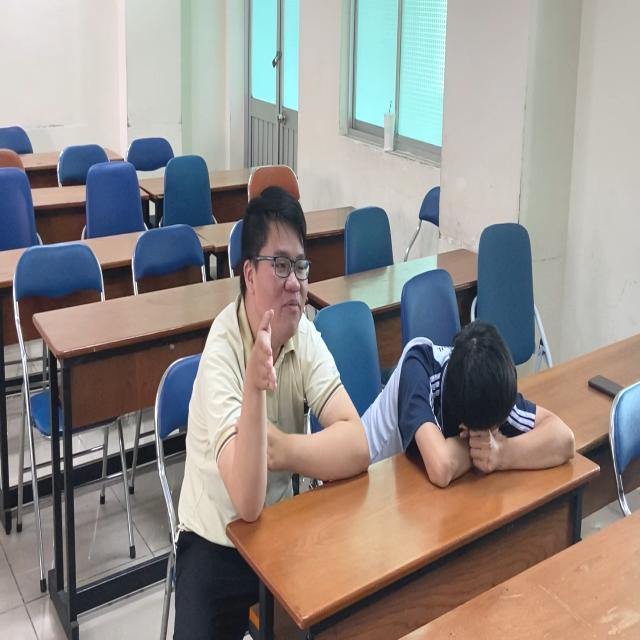sleep: (386, 300, 567, 482)
